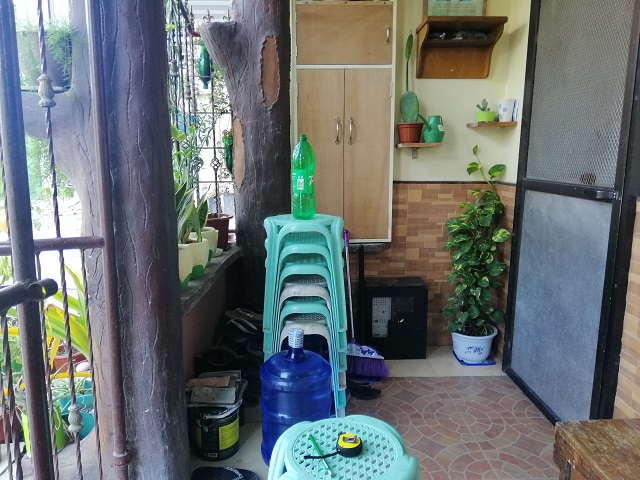bottle: (258, 328, 331, 459), (292, 134, 315, 219)
plant: (446, 143, 502, 364), (174, 182, 193, 289), (399, 90, 420, 142), (476, 98, 493, 120)
wall: (394, 183, 446, 275)
